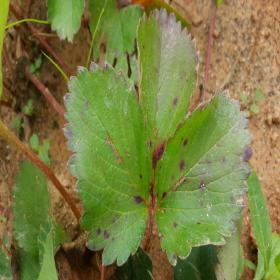Leaf Spot: (61, 60, 152, 267), (153, 87, 254, 268), (136, 7, 200, 198), (213, 213, 245, 279)
